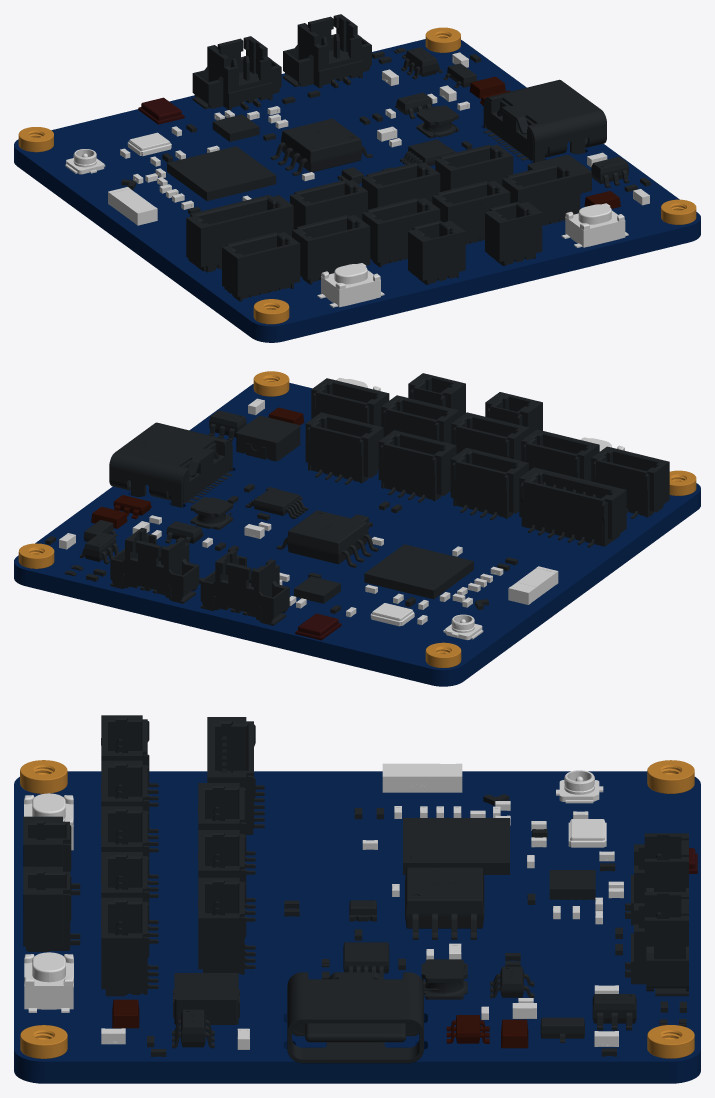
File: esp32.glb
3 renders of one model, top to bottom at view 1: azimuth 30°, elevation 25°; view 2: azimuth 150°, elevation 25°; view 3: azimuth 270°, elevation 25°, orthographic. The views are drawn at different scales.
Visible parts, largest first — view 1: ESP32-3D-Model; view 2: ESP32-3D-Model; view 3: ESP32-3D-Model.
Boxes of the visible parts, left/top/right/bottom form: ESP32-3D-Model: left=14, top=14, right=700, bottom=342; ESP32-3D-Model: left=14, top=371, right=700, bottom=686; ESP32-3D-Model: left=14, top=715, right=700, bottom=1083.
Size of the model in its own units: 45.01 by 6.39 by 44.98.
